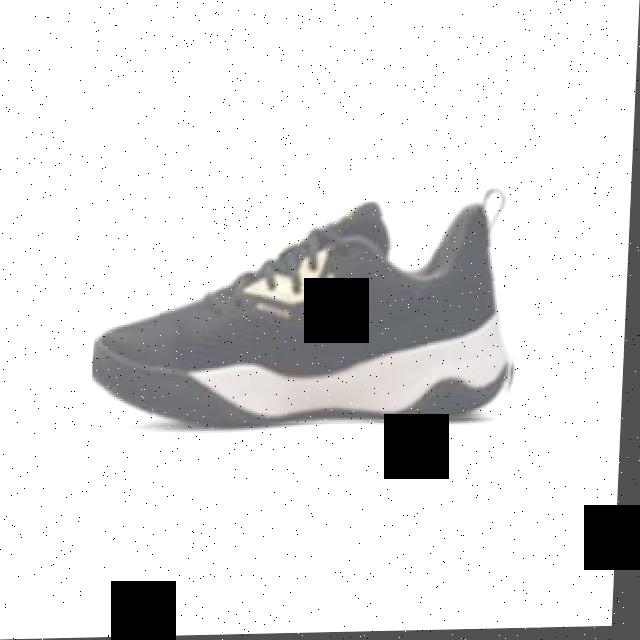shoe: (94, 201, 526, 430)
